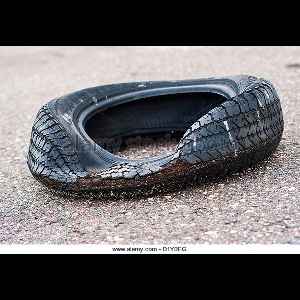tire: (26, 73, 285, 200)
